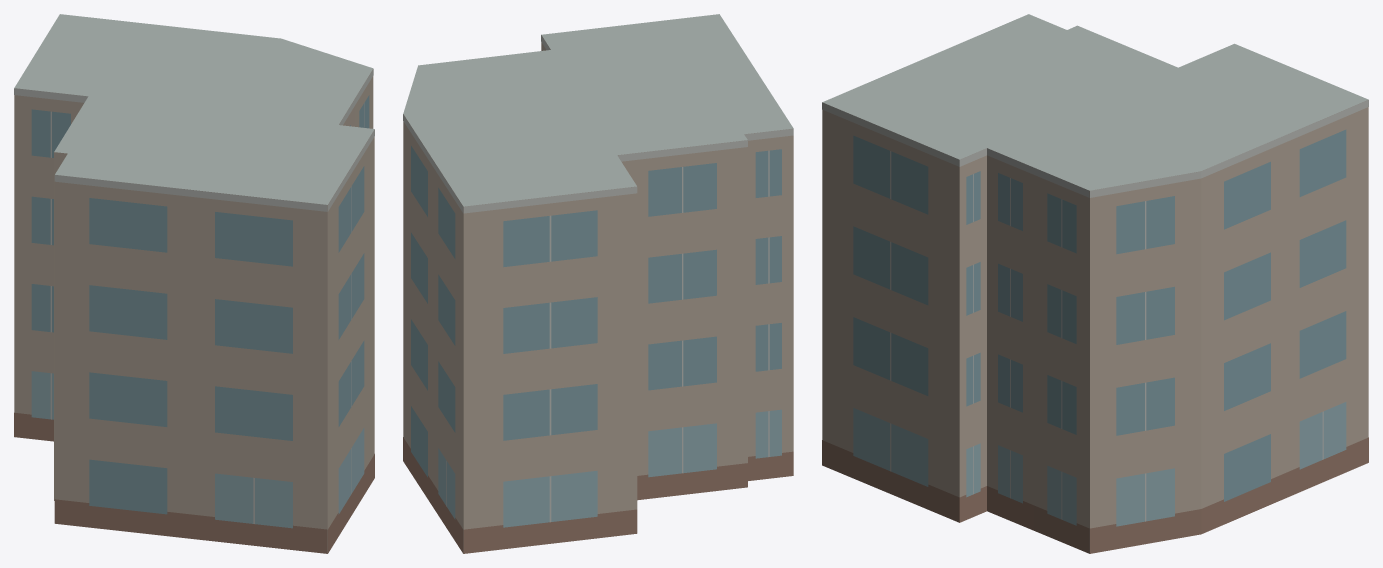
File: residential-e6dbe6b5-c84d-47e0-9ea4-073ba2c8de2f.glb
3 renders of one model, left to right at view 1: azimuth 30°, elevation 25°; view 2: azimuth 150°, elevation 25°; view 3: azimuth 270°, elevation 25°, orthographic. The views are drawn at different scales.
Visible parts, largest first — view 1: residential-e6dbe6b5-c84d-47e0-9ea4-073ba2c8de2f.tmp; view 2: residential-e6dbe6b5-c84d-47e0-9ea4-073ba2c8de2f.tmp; view 3: residential-e6dbe6b5-c84d-47e0-9ea4-073ba2c8de2f.tmp.
Part boxes in pixels (bbox=[...]): residential-e6dbe6b5-c84d-47e0-9ea4-073ba2c8de2f.tmp: bbox=[14, 14, 374, 553]; residential-e6dbe6b5-c84d-47e0-9ea4-073ba2c8de2f.tmp: bbox=[403, 14, 793, 553]; residential-e6dbe6b5-c84d-47e0-9ea4-073ba2c8de2f.tmp: bbox=[822, 14, 1368, 553].
Size of the model in its own units: 12.75 by 12.2 by 16.65.
